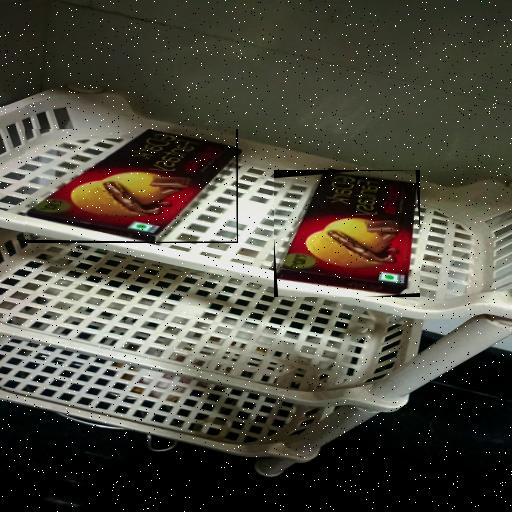Choco Fills: (25, 129, 238, 243), (274, 170, 420, 297)
